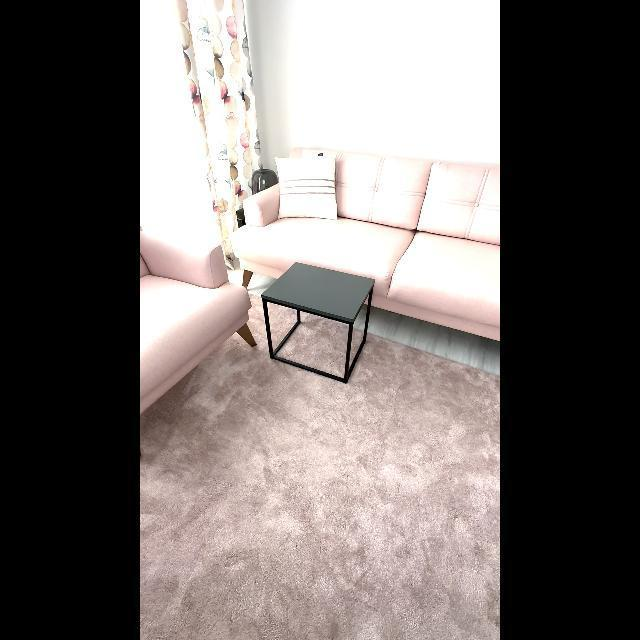coffee table: (256, 256, 380, 388)
